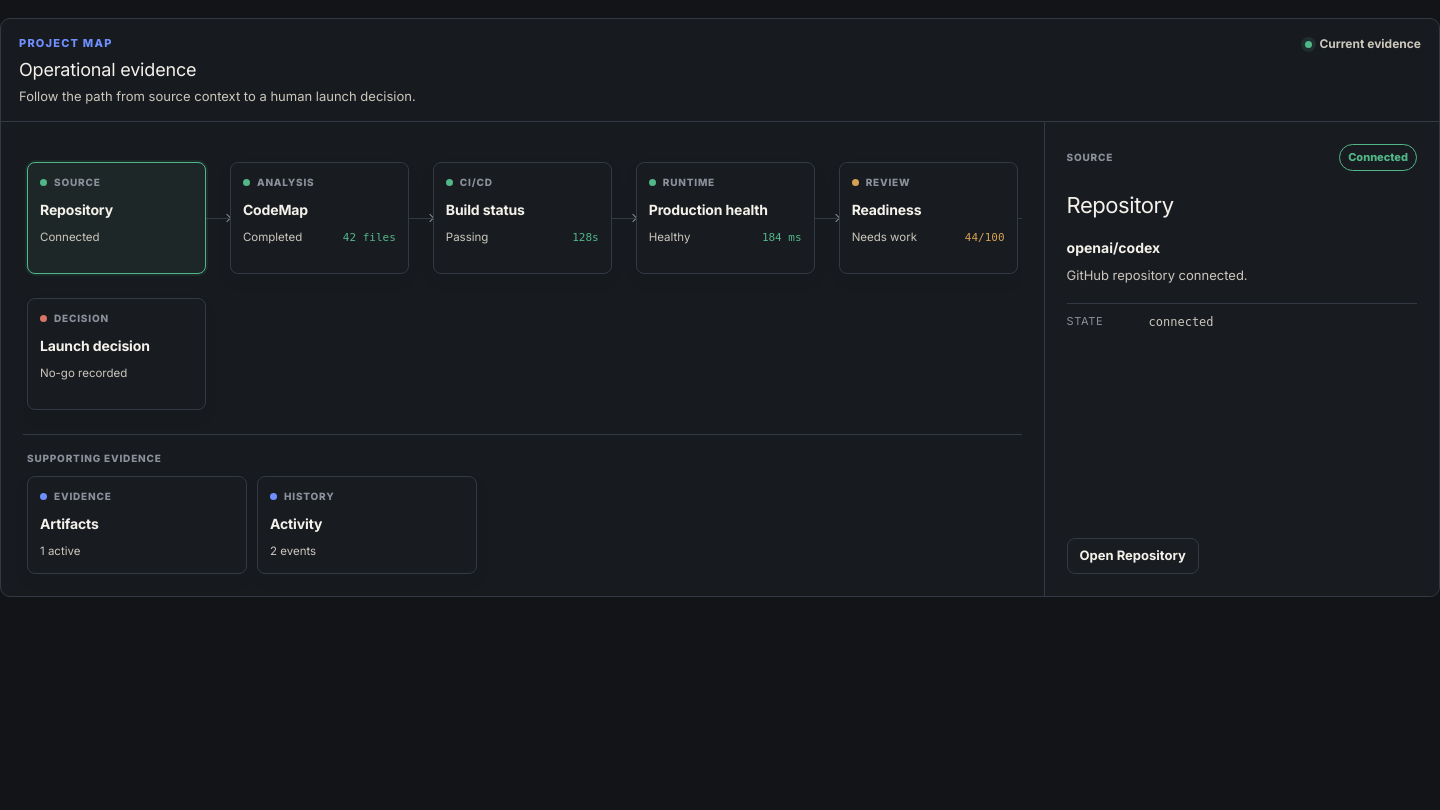
Test case: ProjectOperationsMap › keeps artifacts and activity available as supporting evidence
What coordinates should you click on to do the following:
click the button with aria-label "Inspect Artifacts: 1 active"
I would click on:
 (137, 525)
Its box is [27, 476, 247, 574].
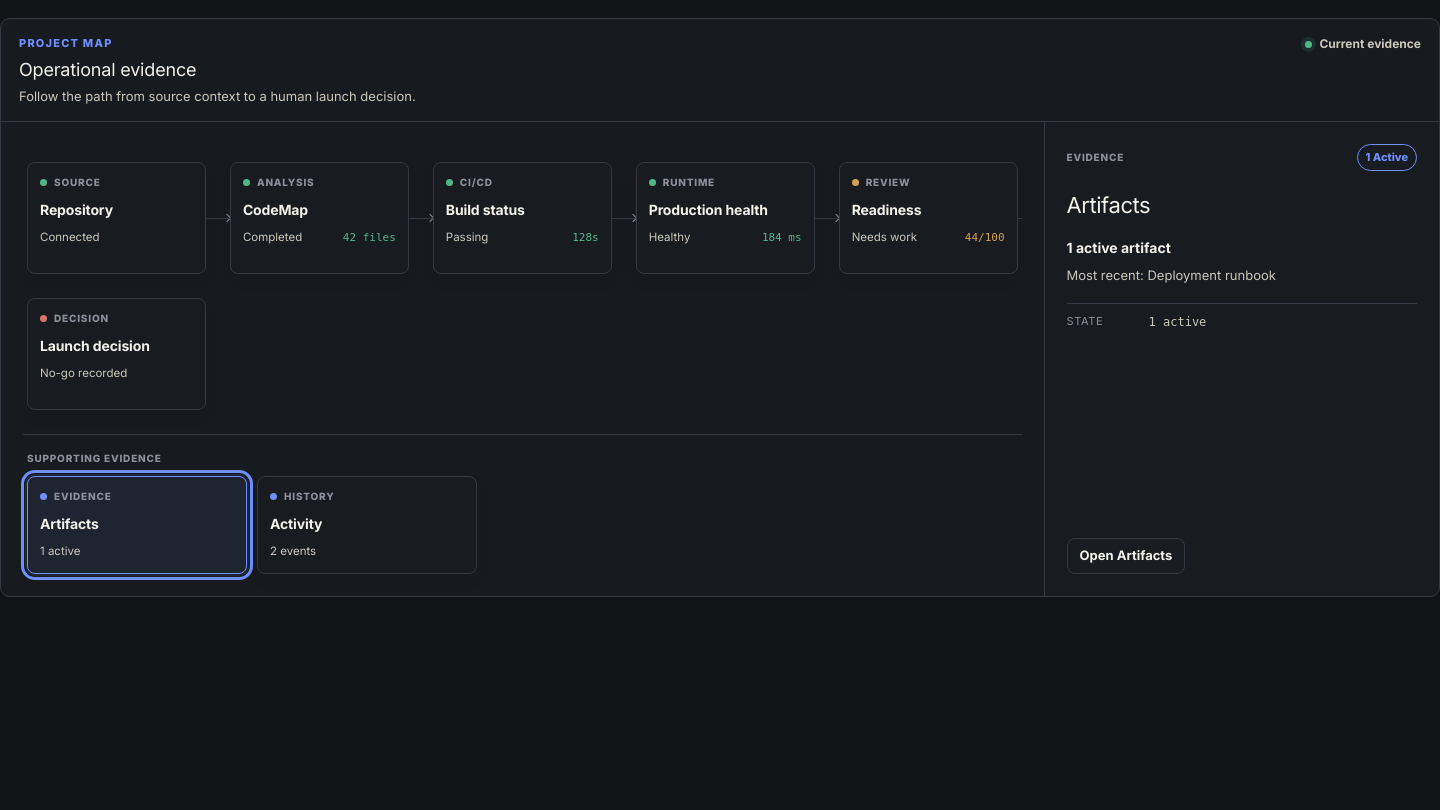
Expected: the text "1 active artifact" is shown, [1066, 238, 1171, 258]
Expected: the text "Most recent: Deployment runbook" is shown, [1066, 265, 1276, 285]
